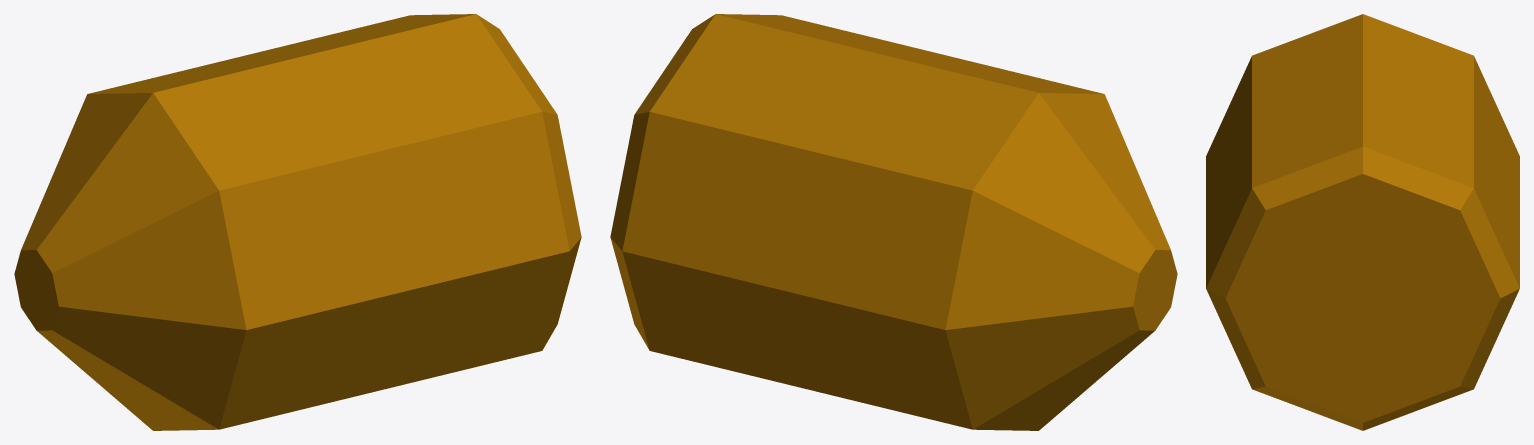
The model's file is Gun_Projectile.fbx.
The picture shows the model from 3 angles, left to right: view 1: azimuth 30°, elevation 25°; view 2: azimuth 150°, elevation 25°; view 3: azimuth 270°, elevation 25°; orthographic projection. The views are drawn at different scales.
Parts seen in each view (by area): view 1: Cylinder.003; view 2: Cylinder.003; view 3: Cylinder.003.
Boxes of the visible parts, x1,y1,x2,y2 form: Cylinder.003: [14, 14, 581, 430]; Cylinder.003: [610, 14, 1177, 430]; Cylinder.003: [1206, 14, 1519, 430].
Bounding box in the file's own units: 32.13 × 22.41 × 22.41.
